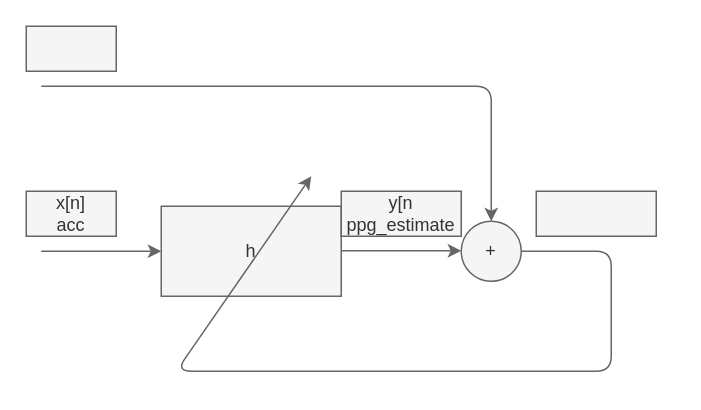
This 701x410 diagram has some shape labels left out. The centre of each missing label's shape, as x and y in pixels:
"d[n] ppg" belongs at [70,48].
"e[n] uncorrelated_signal" belongs at [595,213].
